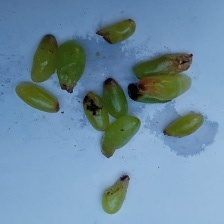grapes: (24, 0, 195, 196)
